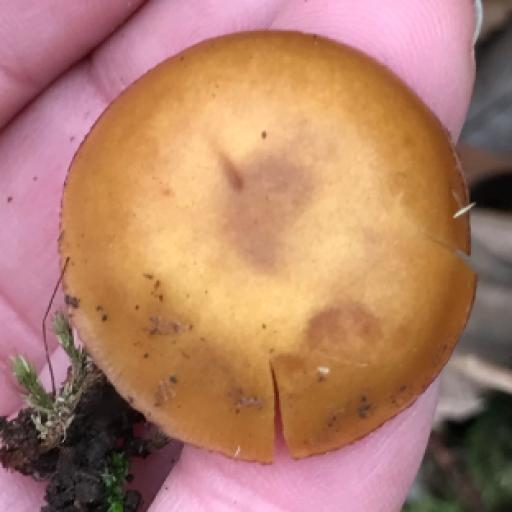mushroom: (44, 21, 489, 472)
